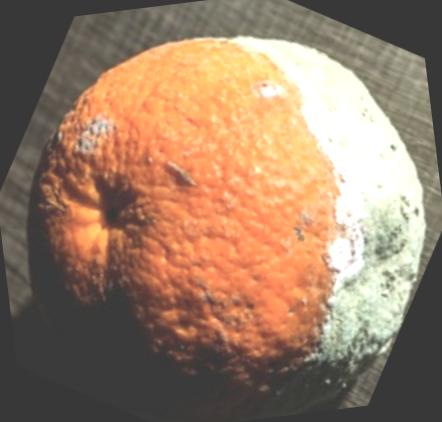Orange Rotten: (5, 9, 442, 422)
